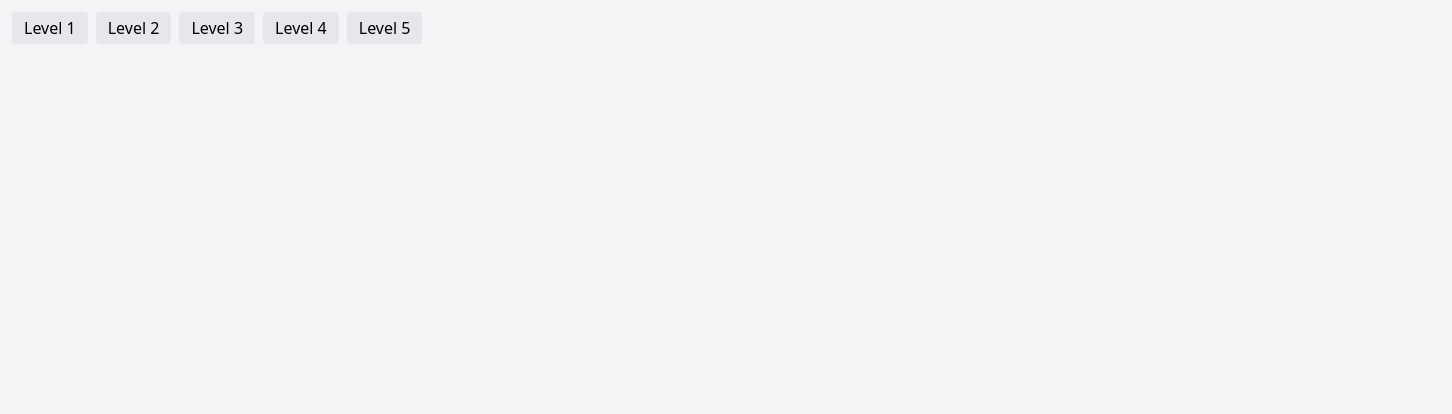
it: ActionShapes Component › displays shapes for selected level
The image size is (1452, 414).
Click the button "Level 1" at (50, 28), box x1=12 y1=12 x2=88 y2=44
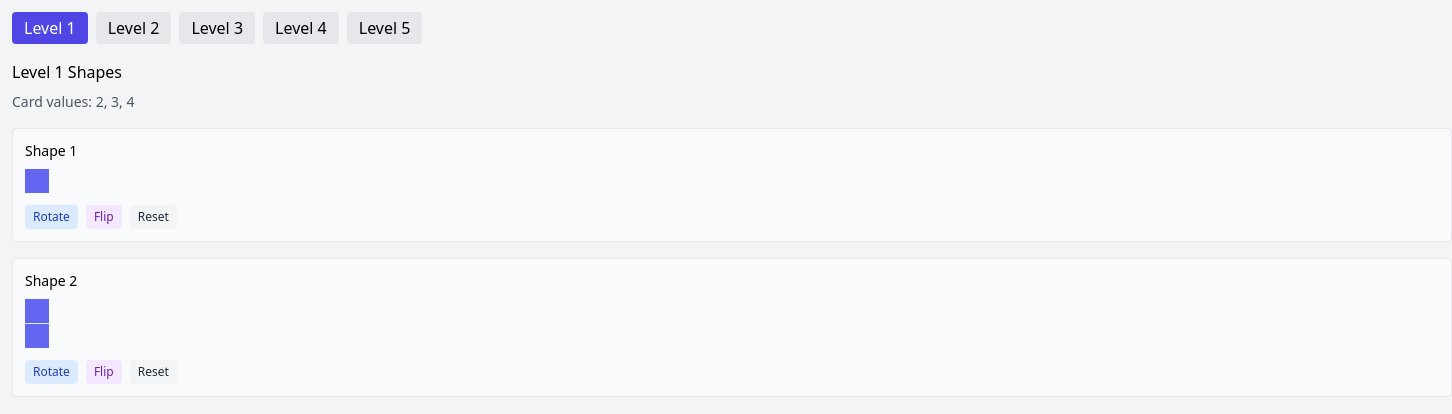
Now the text "Shape 1" is shown, box x1=25 y1=141 x2=77 y2=160
